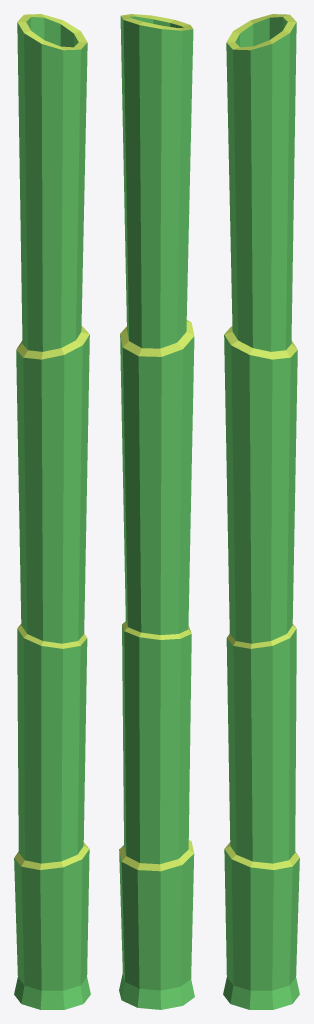
The model's file is Bamboo.fbx.
The picture shows the model from 3 angles, left to right: view 1: azimuth 90°, elevation 25°; view 2: azimuth 150°, elevation 25°; view 3: azimuth 270°, elevation 25°; orthographic projection.
Visible parts, largest first — view 1: Verde; view 2: Verde; view 3: Verde.
Part boxes in pixels (x1,y1,x2,y2): Verde: (14,14,90,1009); Verde: (119,14,194,1009); Verde: (223,14,299,1009).
Size of the model in its own units: 37.6 by 551 by 39.53.
